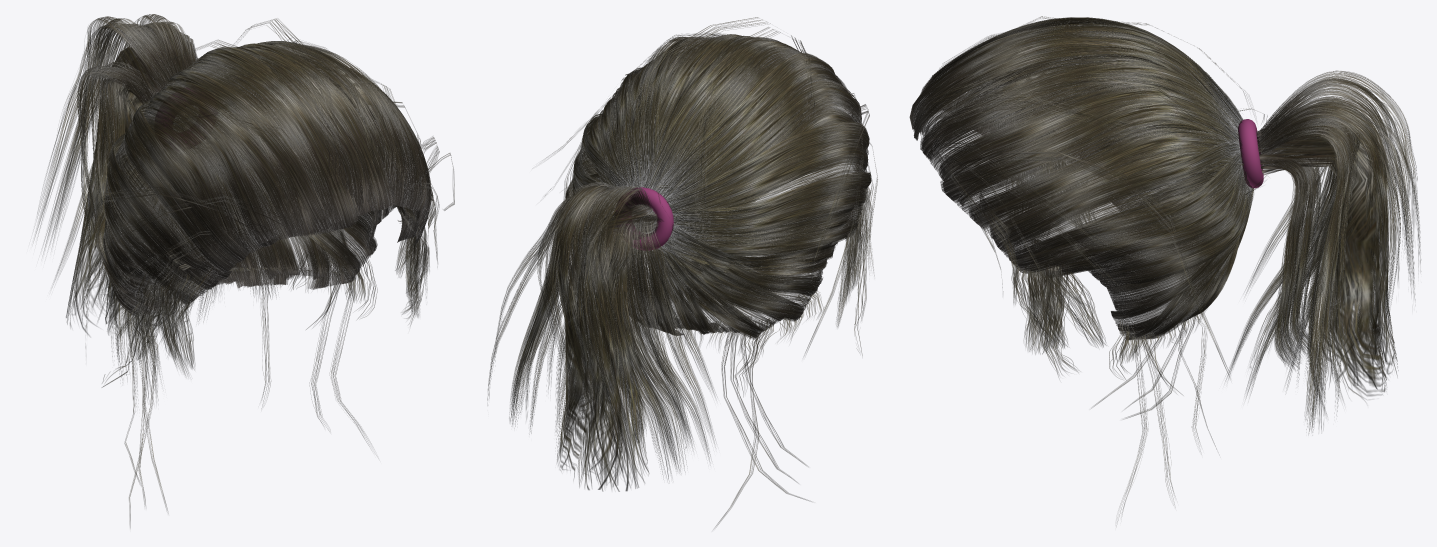
Rendered from ponytail_hair_for_character.glb.
3 renders of one model, left to right at view 1: azimuth 30°, elevation 25°; view 2: azimuth 150°, elevation 25°; view 3: azimuth 270°, elevation 25°, orthographic. The views are drawn at different scales.
Parts seen in each view (by area): view 1: Object_4, Object_6, Object_7, Object_5, Object_8; view 2: Object_4, Object_7, Object_6, Object_5, Object_8, Object_2; view 3: Object_4, Object_5, Object_6, Object_7, Object_2, Object_8.
Boxes of the visible parts, x1,y1,x2,y2 form: Object_4: [35, 14, 454, 527]; Object_6: [146, 41, 436, 325]; Object_7: [93, 91, 278, 375]; Object_5: [201, 43, 427, 282]; Object_8: [122, 171, 377, 368]; Object_4: [487, 17, 877, 528]; Object_7: [647, 79, 874, 339]; Object_6: [615, 37, 861, 335]; Object_5: [565, 34, 785, 239]; Object_8: [631, 242, 823, 396]; Object_2: [616, 187, 673, 250]; Object_4: [916, 16, 1420, 521]; Object_5: [913, 24, 1252, 335]; Object_6: [909, 17, 1253, 376]; Object_7: [942, 54, 1242, 236]; Object_2: [1238, 119, 1263, 188]; Object_8: [1109, 253, 1236, 379].
Bounding box in the file's own units: 20.95 × 28.44 × 28.09.
2 materials, 1 textured.
